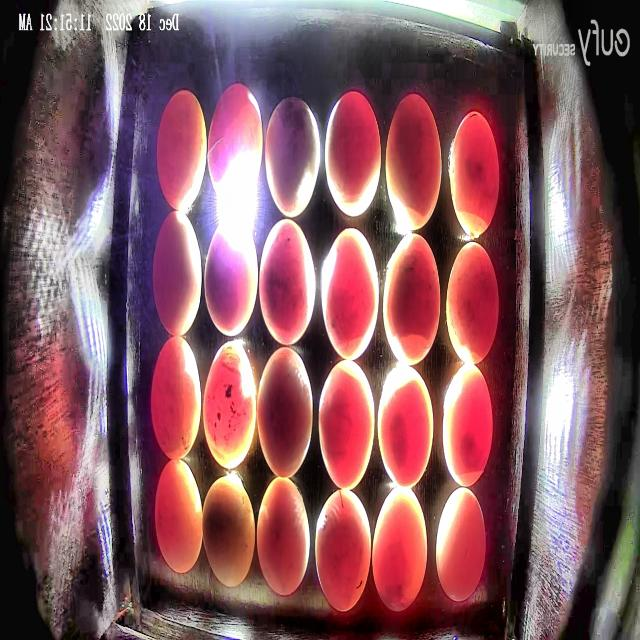FE: (382, 231, 441, 367), (321, 227, 378, 361), (386, 94, 442, 230), (318, 361, 375, 490), (259, 217, 316, 346), (257, 346, 313, 477), (324, 90, 381, 218), (202, 340, 257, 470), (372, 486, 429, 610), (378, 365, 434, 489), (315, 490, 371, 612), (256, 476, 311, 596), (150, 334, 202, 460), (446, 241, 499, 364), (442, 362, 493, 488), (153, 210, 202, 338), (450, 112, 500, 237), (156, 89, 206, 212), (202, 474, 255, 586), (435, 488, 486, 602), (154, 460, 203, 574)
